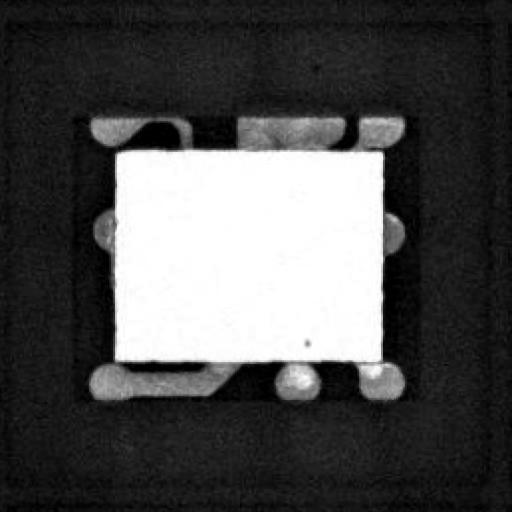DIE_INK: (284, 349, 296, 363)
